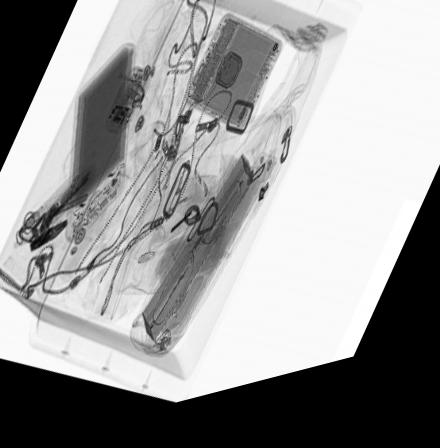Powerbank: (66, 44, 130, 251)
